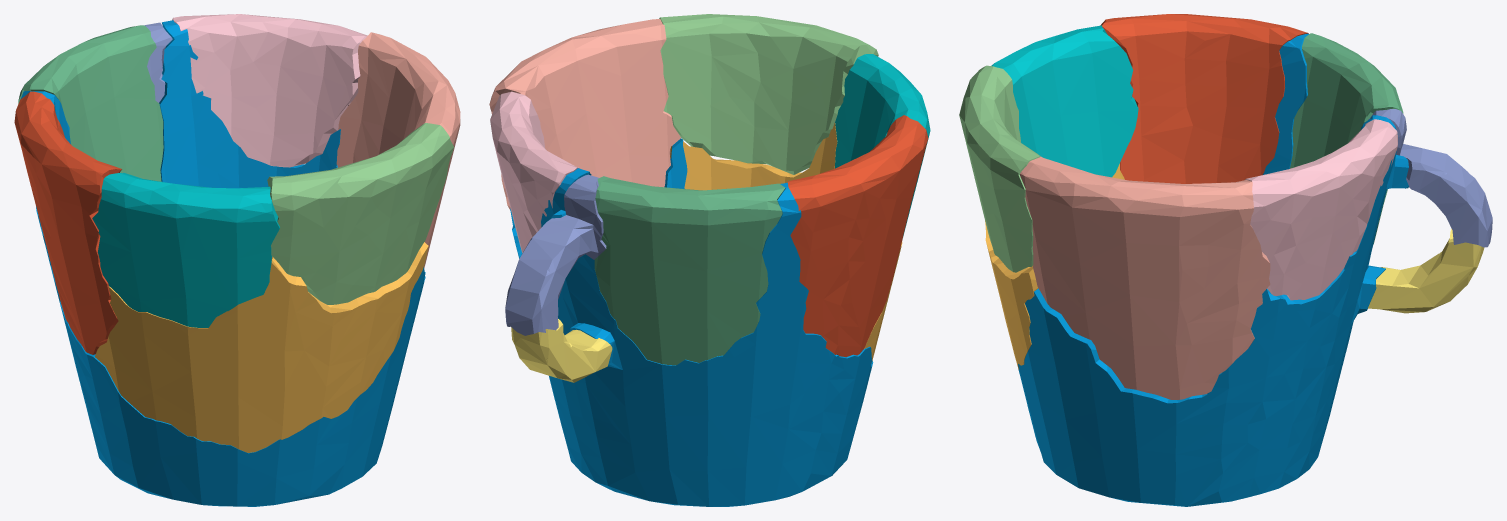
3 renders of one model, left to right at view 1: azimuth 30°, elevation 25°; view 2: azimuth 150°, elevation 25°; view 3: azimuth 270°, elevation 25°, orthographic.
Parts seen in each view (by area): view 1: Object_piece_9, Object_piece_9.003, Object_piece_9.007, Object_piece_9.006, Object_piece_9.005, Object_piece_9.001, Object_piece_9.002, Object_piece_9.004, Object_piece_9.009; view 2: Object_piece_9.003, Object_piece_9.002, Object_piece_9.006, Object_piece_9.004, Object_piece_9.001, Object_piece_9.009, Object_piece_9.005, Object_piece_9.007, Object_piece_9, Object_piece_9.008; view 3: Object_piece_9.003, Object_piece_9.004, Object_piece_9.001, Object_piece_9.005, Object_piece_9.007, Object_piece_9.006, Object_piece_9.002, Object_piece_9.009, Object_piece_9.008, Object_piece_9.
Part boxes in pixels (x1,y1,x2,y2): Object_piece_9: (95, 242, 428, 452); Object_piece_9.003: (21, 20, 425, 506); Object_piece_9.007: (92, 172, 279, 327); Object_piece_9.006: (267, 123, 454, 304); Object_piece_9.005: (172, 14, 367, 167); Object_piece_9.001: (14, 91, 121, 354); Object_piece_9.002: (18, 25, 163, 181); Object_piece_9.004: (336, 32, 460, 267); Object_piece_9.009: (144, 22, 172, 102); Object_piece_9.003: (510, 138, 873, 506); Object_piece_9.002: (594, 176, 785, 365); Object_piece_9.006: (659, 14, 878, 174); Object_piece_9.004: (489, 19, 680, 209); Object_piece_9.001: (787, 115, 928, 357); Object_piece_9.009: (505, 174, 606, 335); Object_piece_9.005: (490, 91, 580, 252); Object_piece_9.007: (835, 54, 930, 236); Object_piece_9: (670, 122, 902, 362); Object_piece_9.008: (511, 319, 612, 382); Object_piece_9.003: (1018, 33, 1408, 506); Object_piece_9.004: (1020, 156, 1270, 399); Object_piece_9.001: (1100, 14, 1308, 183); Object_piece_9.005: (1245, 119, 1397, 300); Object_piece_9.007: (991, 25, 1138, 177); Object_piece_9.006: (959, 65, 1040, 272); Object_piece_9.002: (1290, 33, 1403, 244); Object_piece_9.009: (1368, 109, 1492, 247); Object_piece_9.008: (1368, 229, 1484, 313); Object_piece_9: (985, 163, 1124, 369).
Size of the model in its own units: 0.8377 by 0.7287 by 0.9985.
